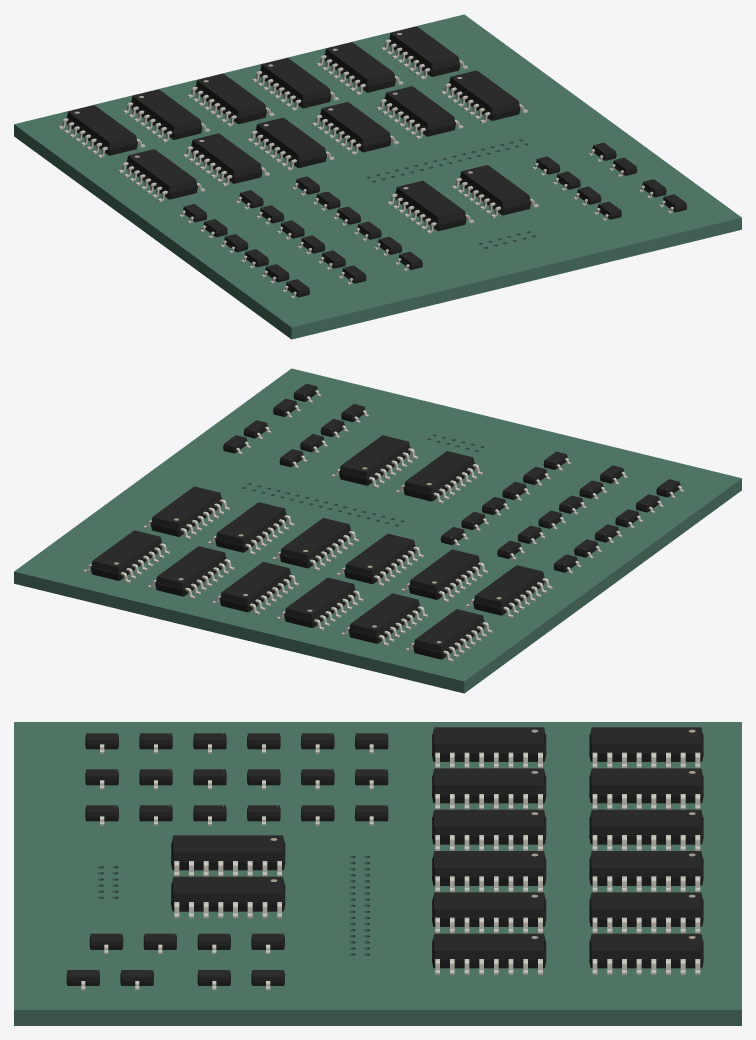
The model's file is main_control.glb.
The picture shows the model from 3 angles, top to bottom: view 1: azimuth 30°, elevation 25°; view 2: azimuth 150°, elevation 25°; view 3: azimuth 270°, elevation 25°; orthographic projection. The views are drawn at different scales.
Parts seen in each view (by area): view 1: =>[0:1:1:4], U304, U205, U201, U305, U302, U301, U203, U204, U1001, U202, U206 (+3 smaller); view 2: =>[0:1:1:4], U201, U1002, U203, U206, U205, U305, U1001, U202, U302, U301, U306 (+3 smaller); view 3: =>[0:1:1:4], U1002, U203, U206, U202, U1001, U302, U306, U303, U205, U201, U204 (+29 smaller).
Part boxes in pixels (box(x1,y1,x2,y2)): =>[0:1:1:4]: box(14, 14, 741, 339); U304: box(312, 102, 398, 154); U205: box(316, 42, 403, 95); U201: box(58, 105, 145, 158); U305: box(376, 86, 463, 138); U302: box(183, 133, 269, 186); U301: box(118, 149, 205, 201); U203: box(187, 73, 274, 126); U204: box(252, 58, 338, 110); U1001: box(387, 180, 474, 233); U202: box(123, 89, 209, 142); U206: box(381, 26, 467, 79); =>[0:1:1:4]: box(14, 368, 741, 693); U201: box(405, 609, 492, 661); U1002: box(331, 435, 418, 488); U203: box(276, 577, 363, 630); U206: box(83, 530, 169, 583); U205: box(147, 546, 234, 598); U305: box(207, 502, 294, 555); U1001: box(396, 451, 482, 503); U202: box(341, 593, 427, 646); U302: box(401, 549, 487, 602); U301: box(465, 565, 552, 617); U306: box(143, 486, 229, 539); =>[0:1:1:4]: box(14, 722, 741, 1025); U1002: box(171, 876, 285, 918); U203: box(589, 809, 703, 850); U206: box(589, 933, 703, 974); U202: box(589, 768, 703, 809); U1001: box(171, 835, 285, 876); U302: box(432, 768, 546, 809); U306: box(432, 933, 546, 974); U303: box(432, 809, 546, 850); U205: box(589, 892, 703, 933); U201: box(589, 727, 703, 768); U204: box(589, 851, 703, 892).
Bounding box in the file's own units: 0.059 × 0.00335 × 0.063.
